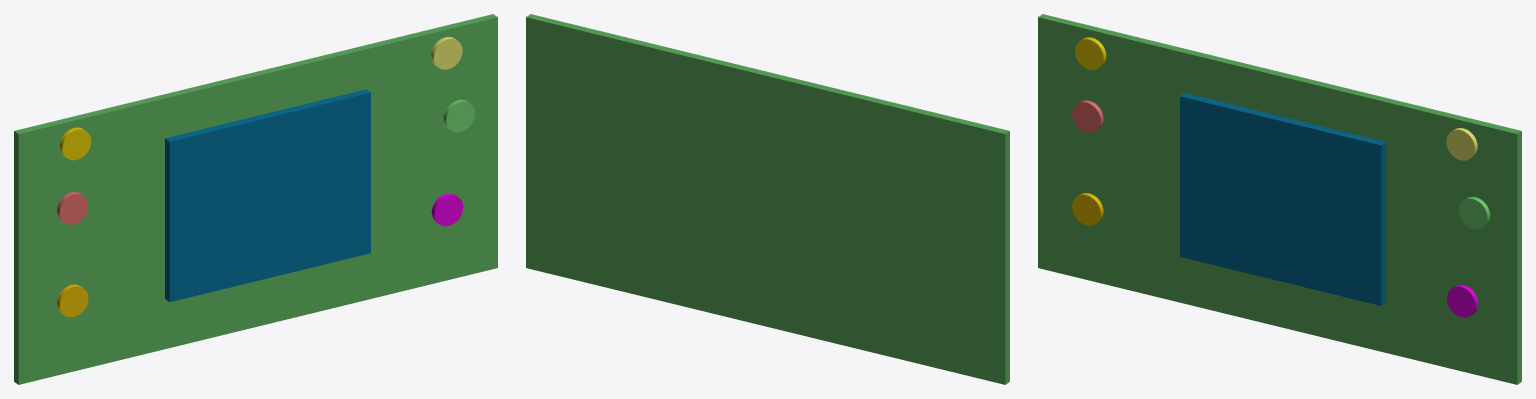
The model's file is pcb_detailed.glb.
3 renders of one model, left to right at view 1: azimuth 30°, elevation 25°; view 2: azimuth 150°, elevation 25°; view 3: azimuth 330°, elevation 25°, orthographic.
Visible parts, largest first — view 1: pcb_base, lcd, marker_START_SELECT, marker_R_BTN, marker_DPAD, marker_AB, marker_MENU, marker_L_BTN; view 2: pcb_base; view 3: pcb_base, lcd, marker_DPAD, marker_START_SELECT, marker_MENU, marker_L_BTN, marker_AB, marker_R_BTN.
Boxes of the visible parts, x1,y1,x2,y2 form: pcb_base: [14, 14, 497, 384]; lcd: [165, 89, 370, 301]; marker_START_SELECT: [57, 284, 88, 317]; marker_R_BTN: [431, 37, 462, 69]; marker_DPAD: [57, 192, 88, 224]; marker_AB: [443, 99, 474, 132]; marker_MENU: [431, 193, 463, 226]; marker_L_BTN: [59, 127, 91, 160]; pcb_base: [526, 14, 1009, 384]; pcb_base: [1038, 14, 1521, 384]; lcd: [1180, 93, 1385, 305]; marker_DPAD: [1072, 100, 1103, 132]; marker_START_SELECT: [1072, 193, 1103, 225]; marker_MENU: [1447, 284, 1478, 317]; marker_L_BTN: [1075, 37, 1106, 69]; marker_AB: [1458, 197, 1490, 229]; marker_R_BTN: [1446, 128, 1477, 160].
Size of the model in its own units: 100 by 50 by 3.3.
